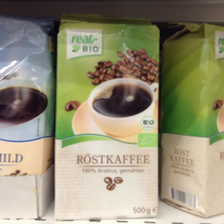coffee: (55, 12, 160, 218), (160, 24, 224, 217), (1, 15, 53, 172)
